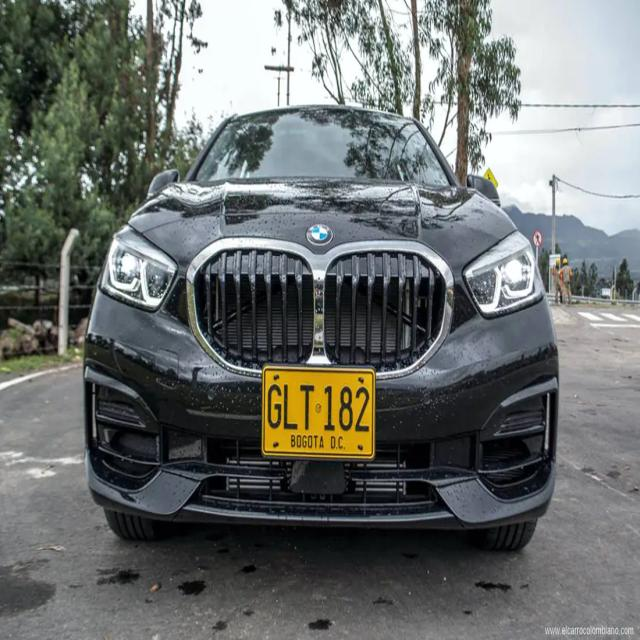placa_carro: (262, 365, 375, 460)
